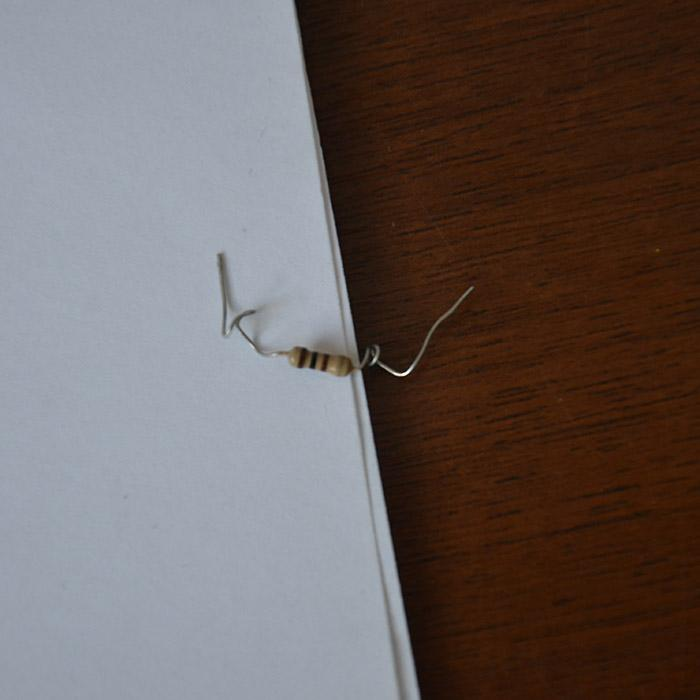resistor: (284, 346, 355, 378)
